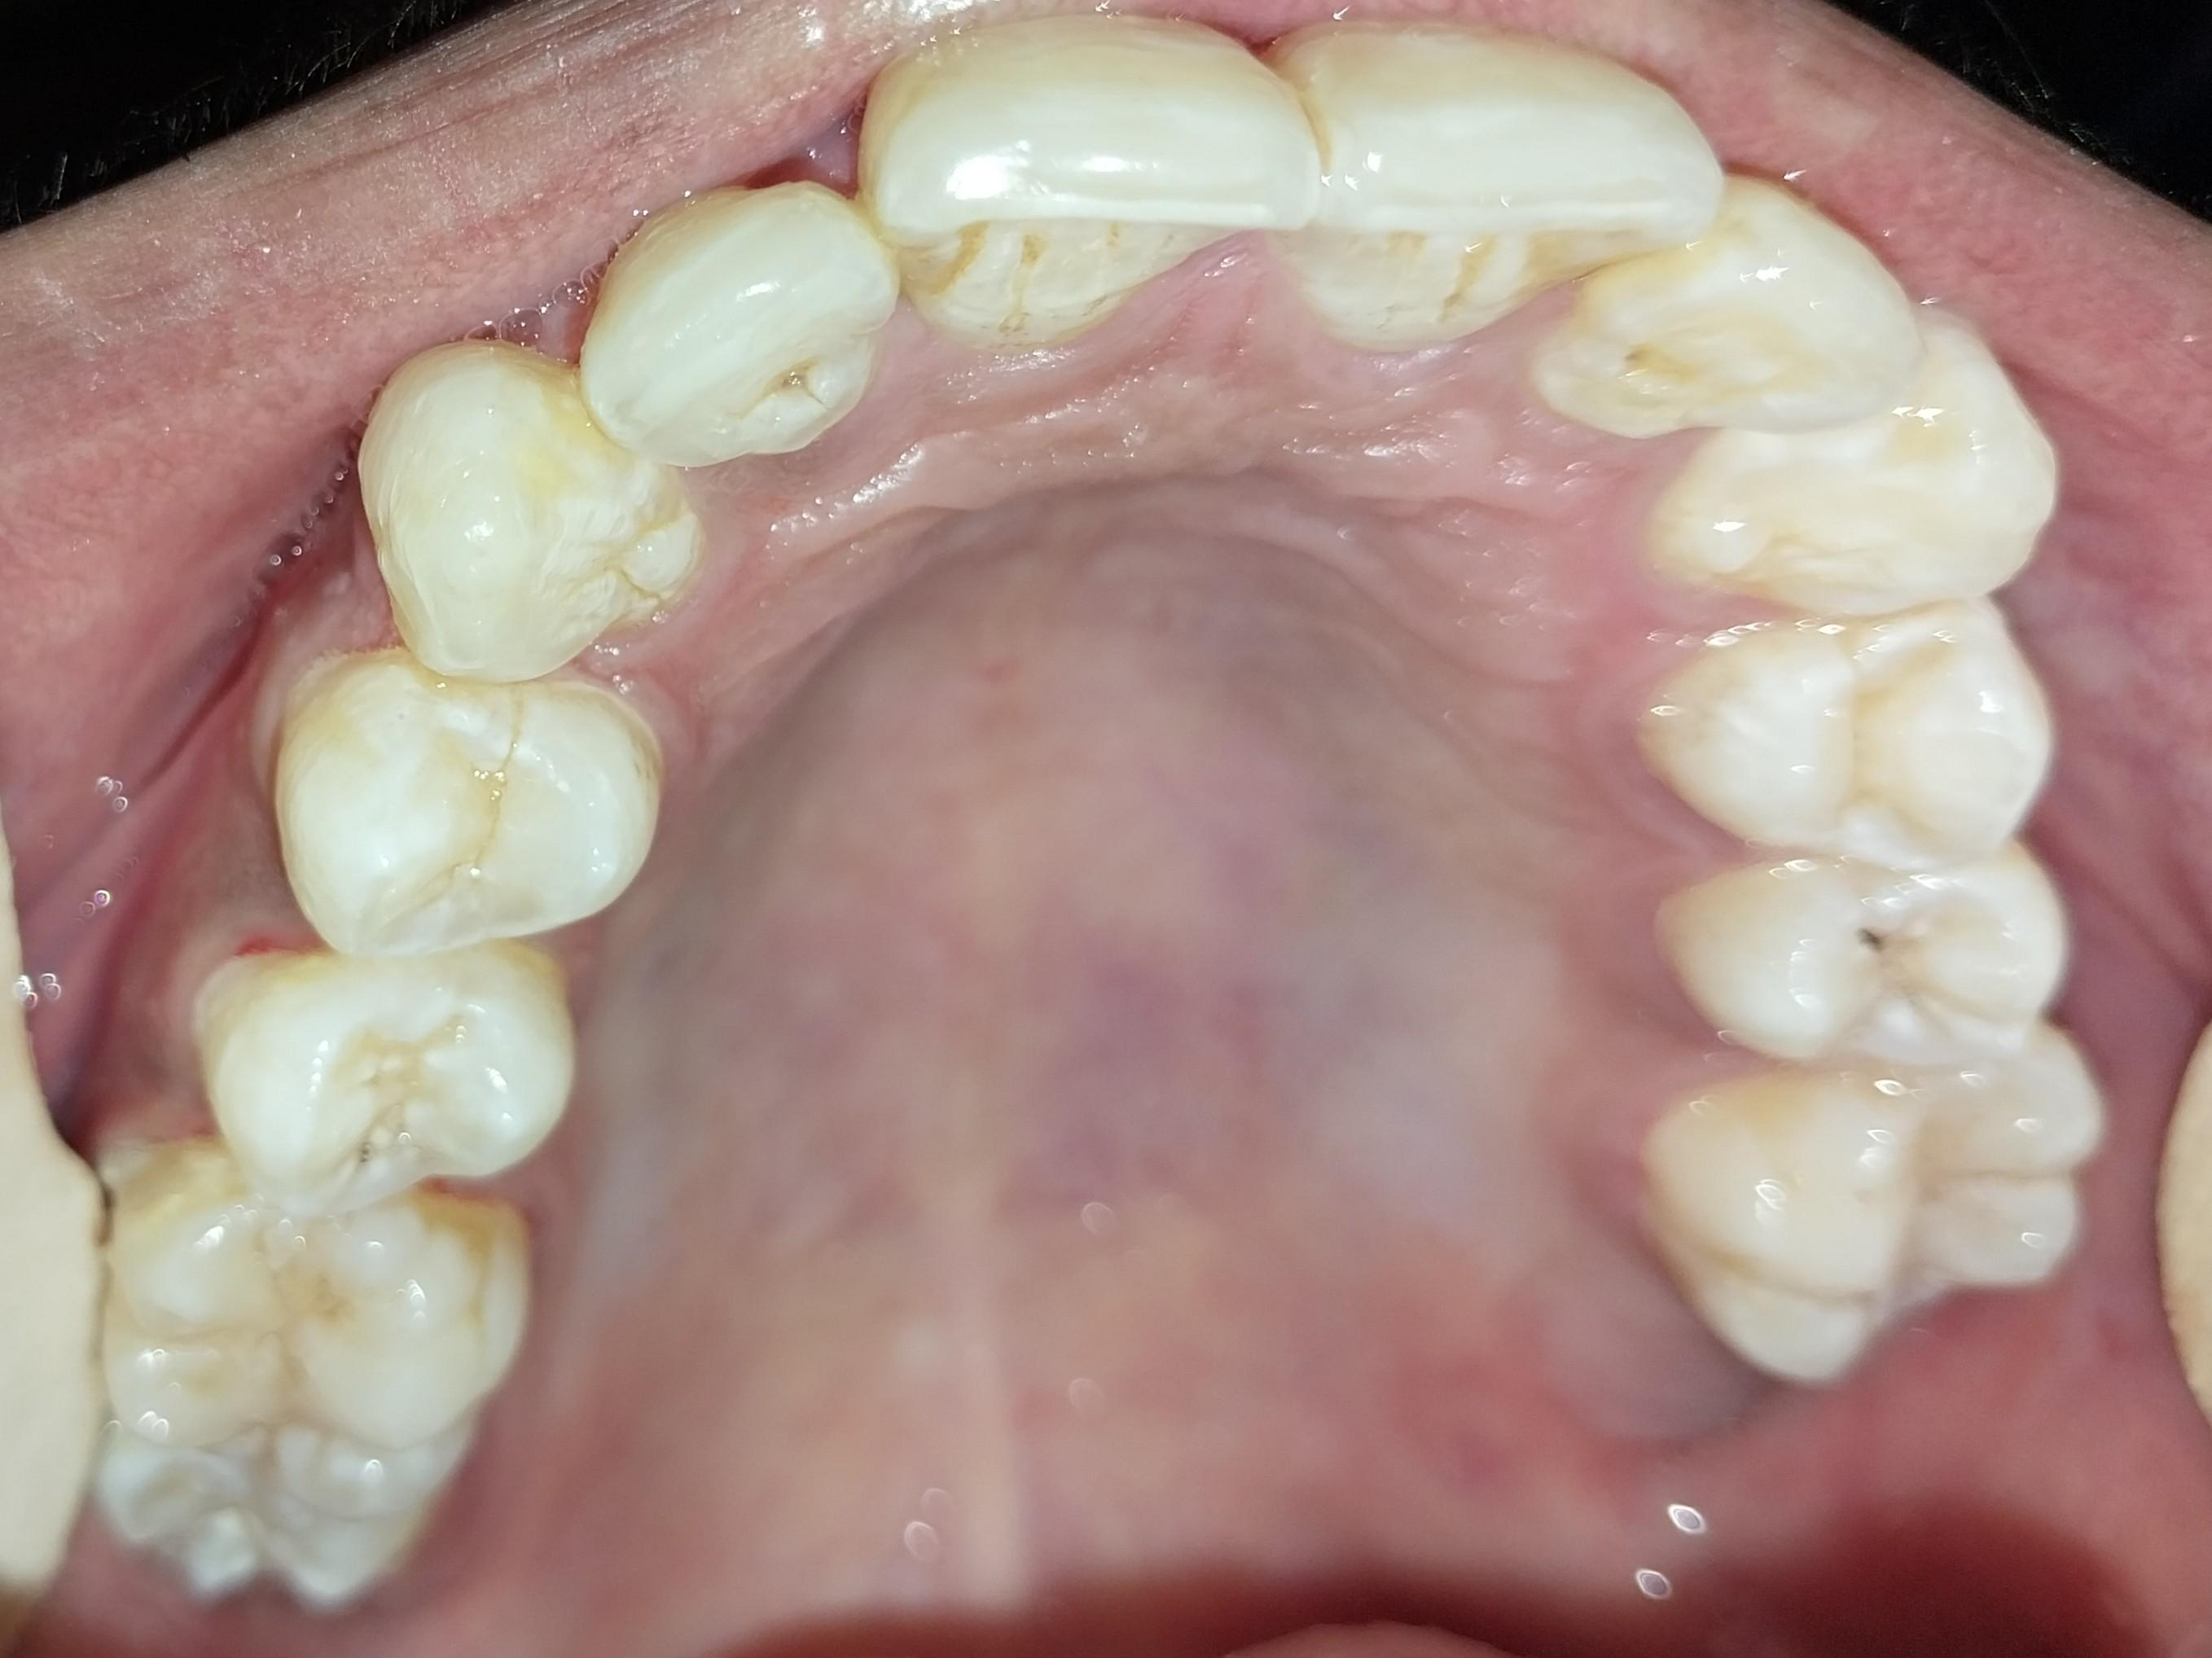D: (1657, 855, 2066, 1068)
